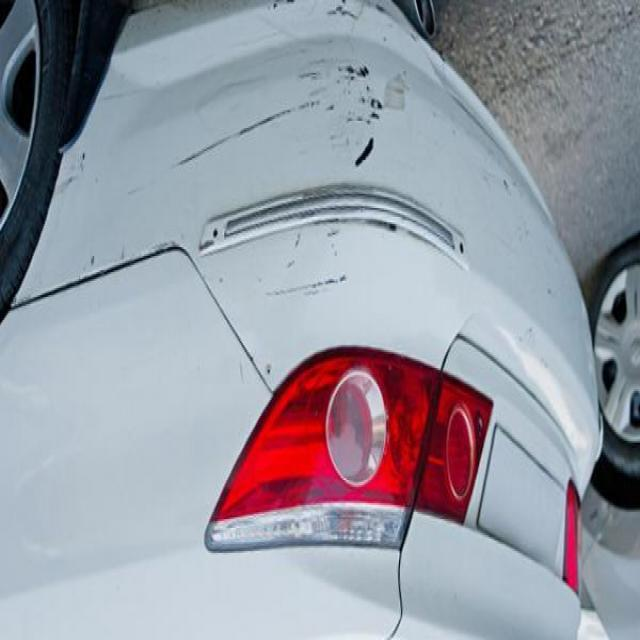scratch: (150, 92, 312, 210), (246, 265, 351, 320)
